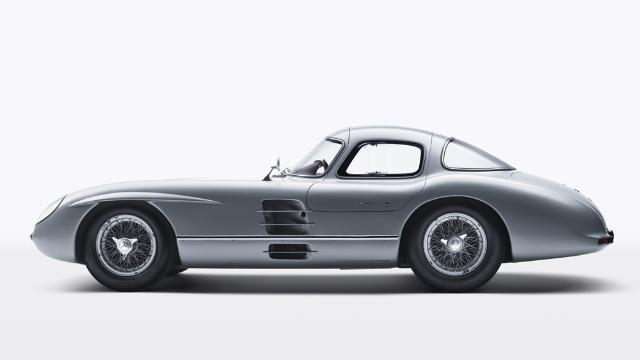benz: (30, 126, 614, 294)
